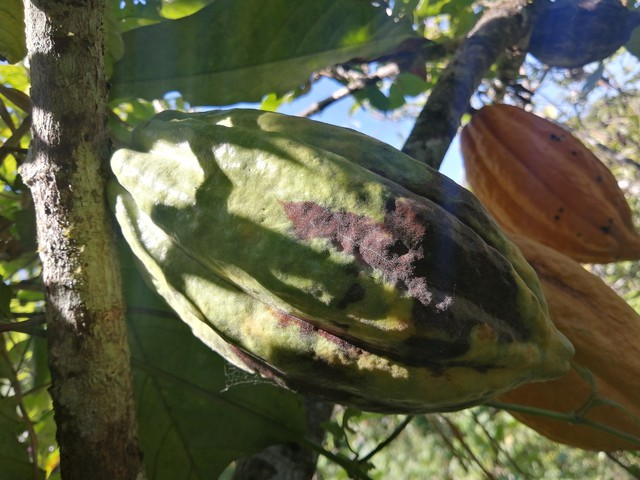moniliophthora perniciosa: (91, 97, 578, 431)
